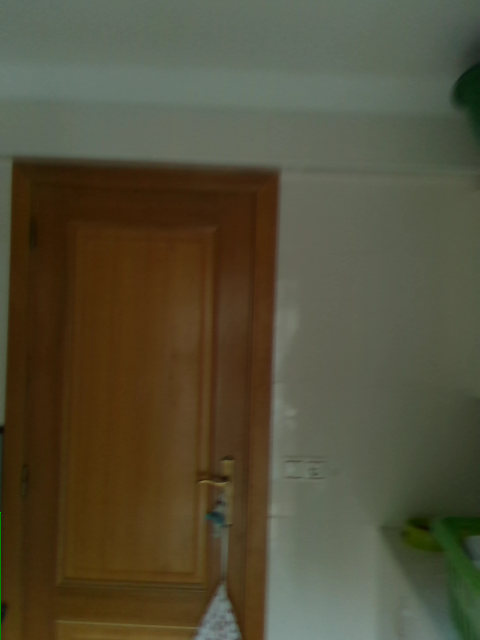closed: (0, 155, 281, 639)
